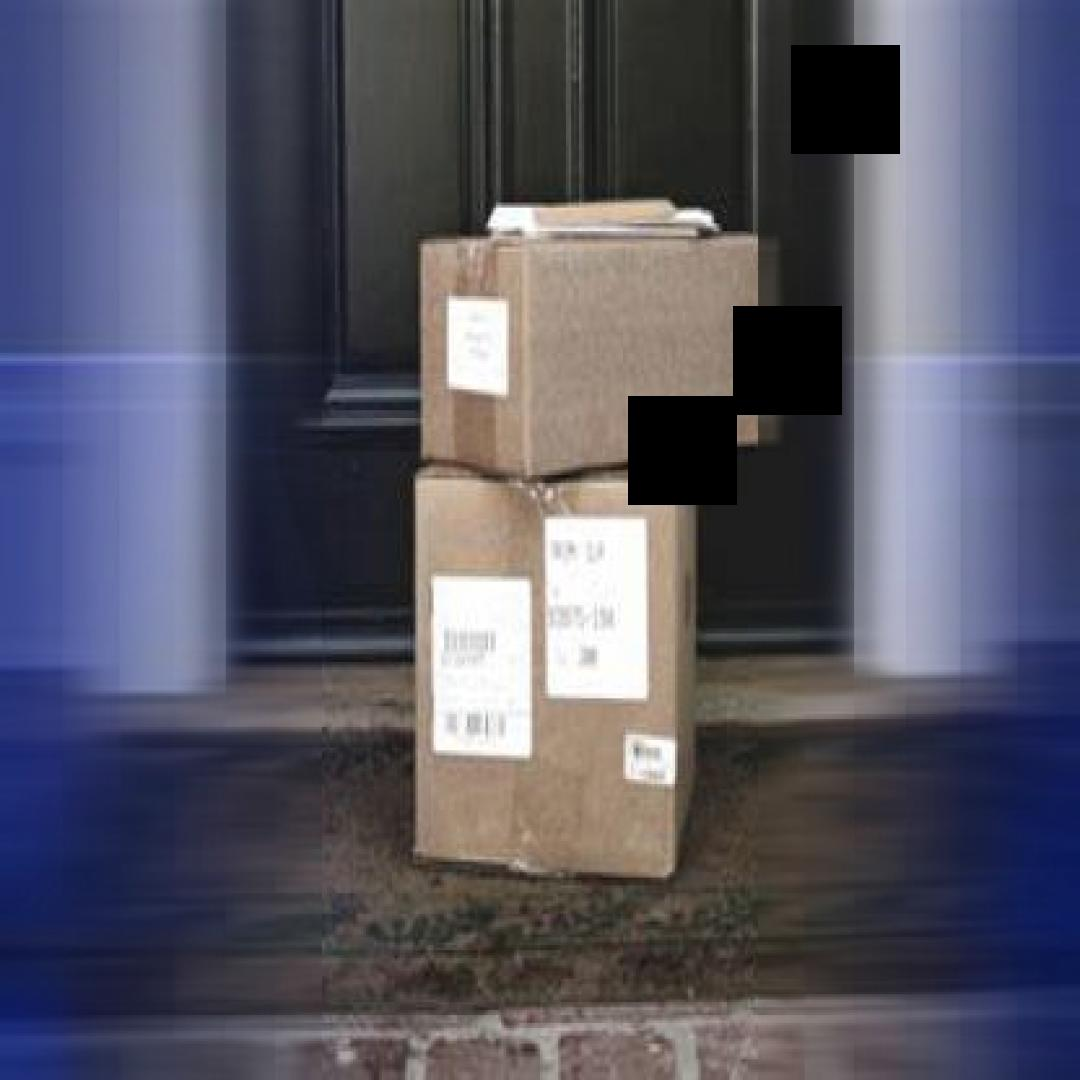package: (410, 449, 706, 888), (418, 228, 768, 483)
